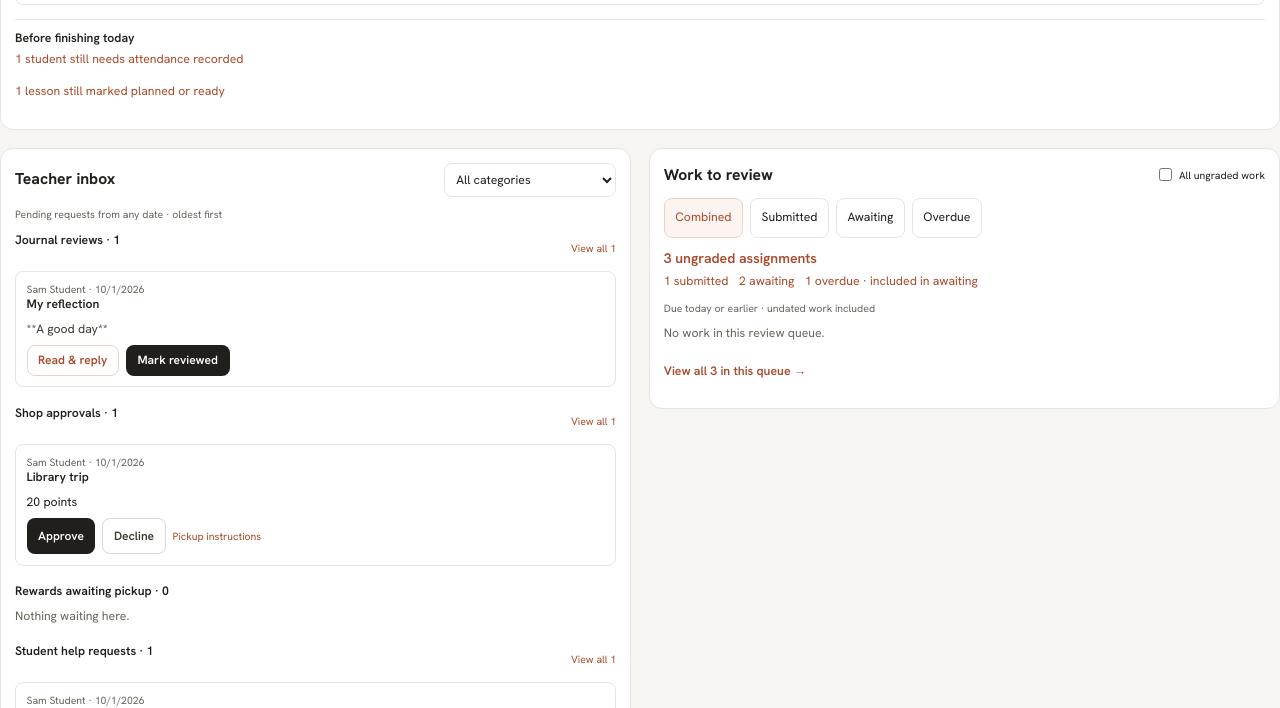
it: teacher dashboard › reads the full journal with Markdown before replying
(page scrolled)
Check: the text "My reflection" is shown, box [26,296,99,312]
Click the button "Read & reply" at (73, 360), box [26,345,119,376]
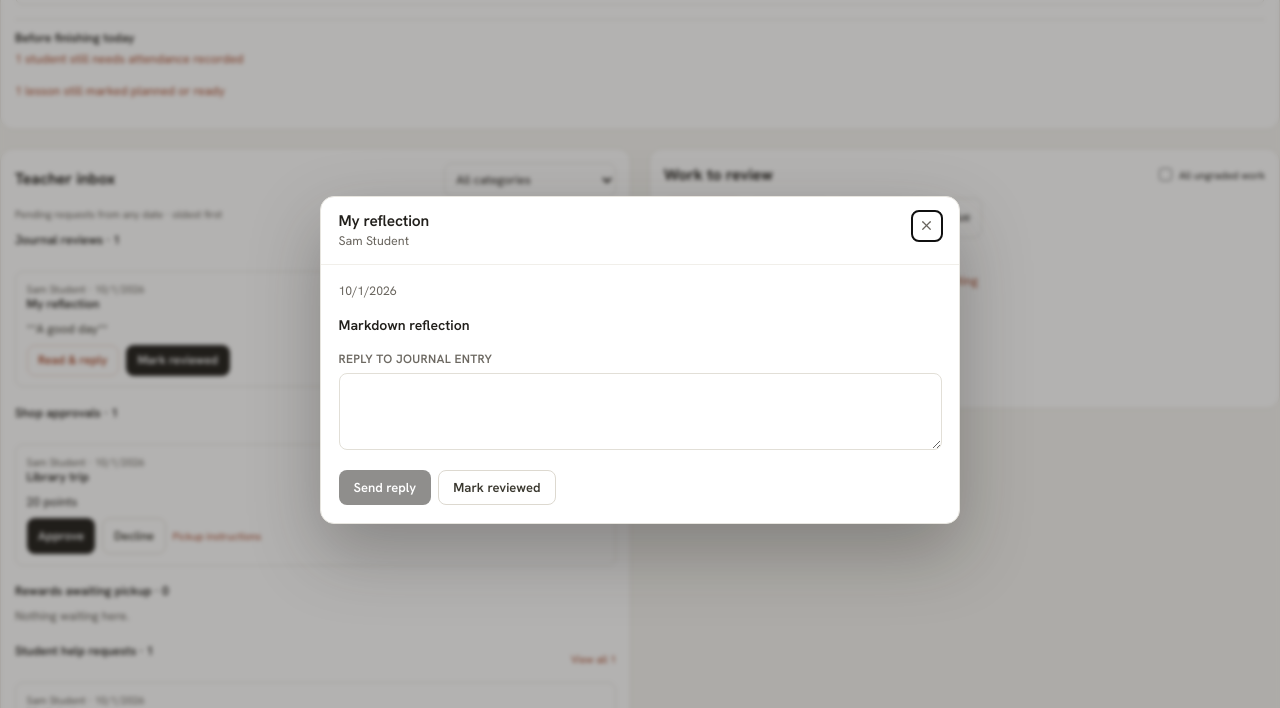
Check: the text box labelled "Reply to journal entry" is shown, box [338,373,942,450]
